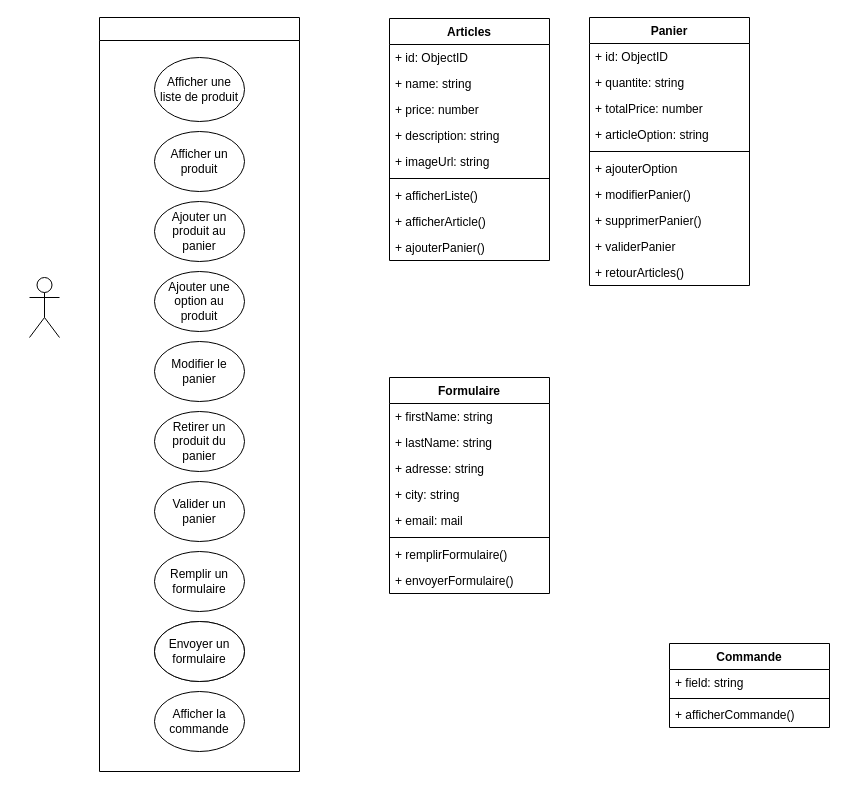
This 847x789 diagram has some shape labels left out. The shapes that lost their labels are listed below. From the top down, each one's centre as x and y in pixels, then its label:
At [44,307]: "VISITEUR".
At [199,394]: "Container".
